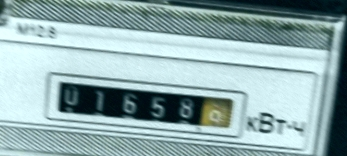0: (62, 82, 81, 105)
1: (91, 86, 107, 111)
5: (149, 92, 167, 118)
6: (120, 89, 140, 115)
8: (177, 95, 196, 118)
9: (206, 105, 223, 127)
screen: (41, 67, 251, 141)
